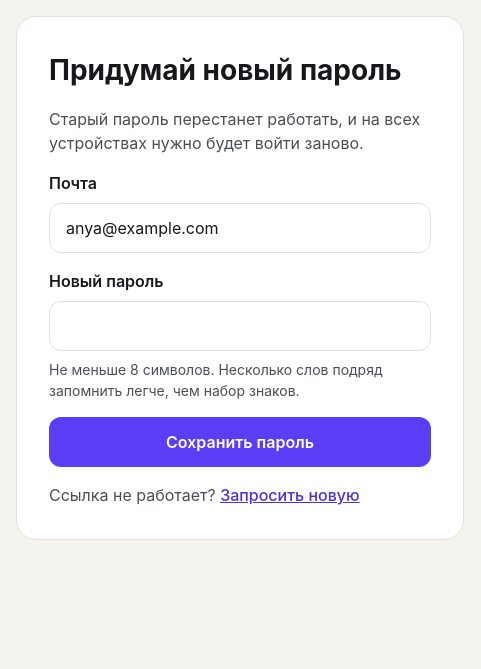
Test: ResetPasswordView › ссылка устарела — текст над формой и ссылка на новое письмо
In the password field labelled "Новый пароль": (240, 326) [49,301,431,351], type "новый пароль"
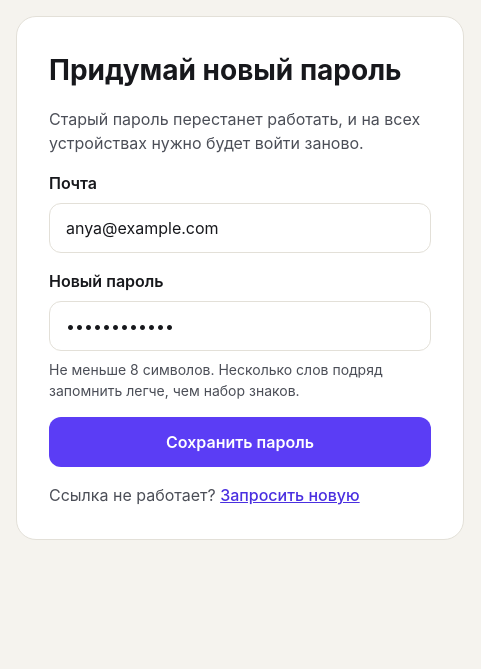
Submit the form, box [49,171,431,467]
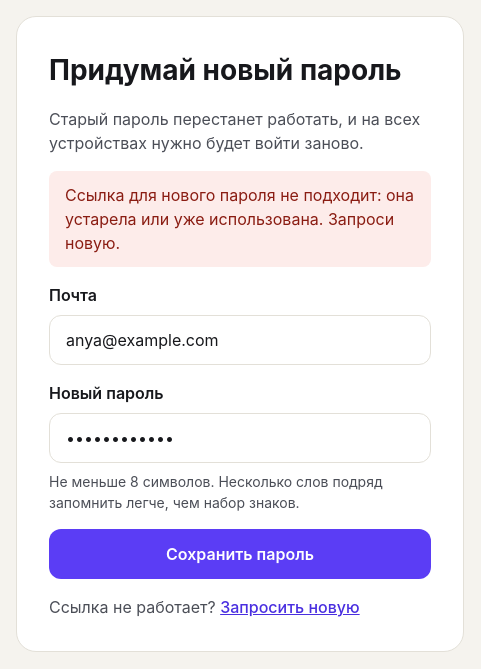
Expected: the link to "/forgot-password?email=anya@example.com" reads "Запросить новую", [220,597,360,617]
Expected: the message shows "Ссылка для нового пароля не подходит: она устарела или уже использована. Запроси новую.", [65,185,414,253]
